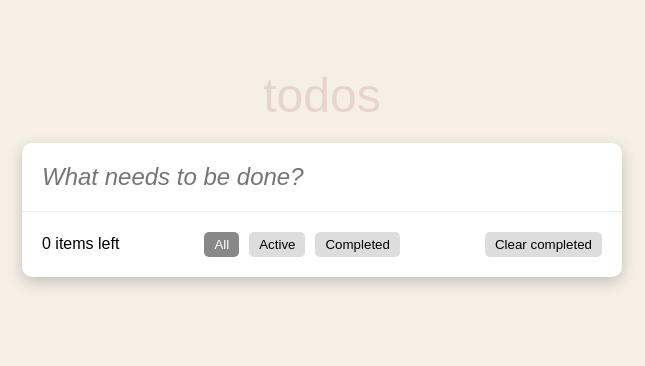
Todo App › clears completed todos
Type "Active Task" into the field with test id "todo-input" at {"x": 309, "y": 177}, box left=32, top=153, right=586, bottom=201
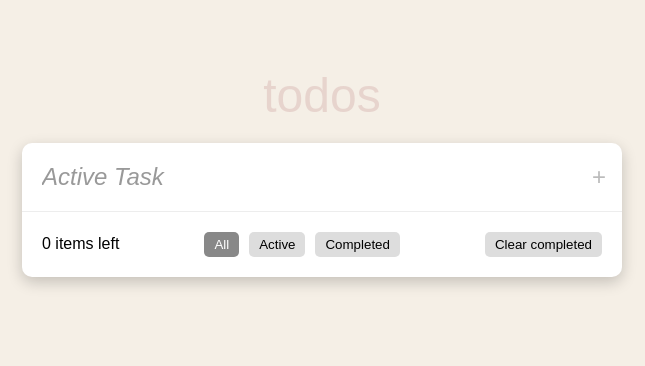
Click the button with test id "add-todo-button" at {"x": 599, "y": 177}, box left=586, top=162, right=612, bottom=192
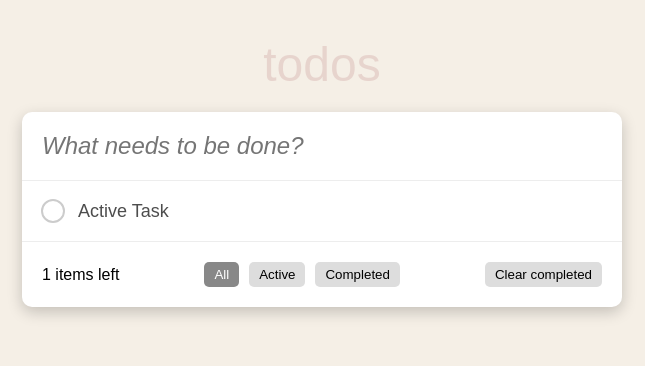
Type "Completed Task" into the field with test id "todo-input" at {"x": 309, "y": 146}, box left=32, top=122, right=586, bottom=170
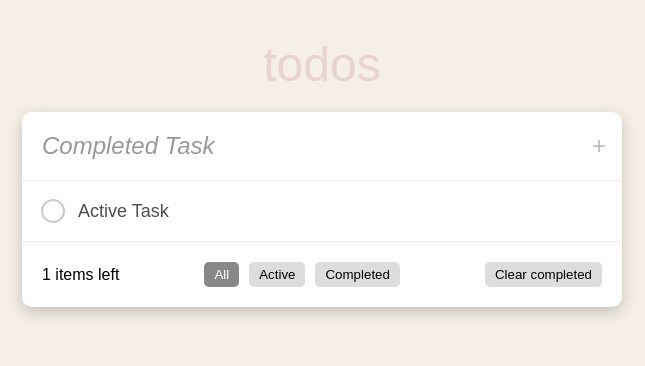
Click the button with test id "add-todo-button" at {"x": 599, "y": 146}, box left=586, top=131, right=612, bottom=161
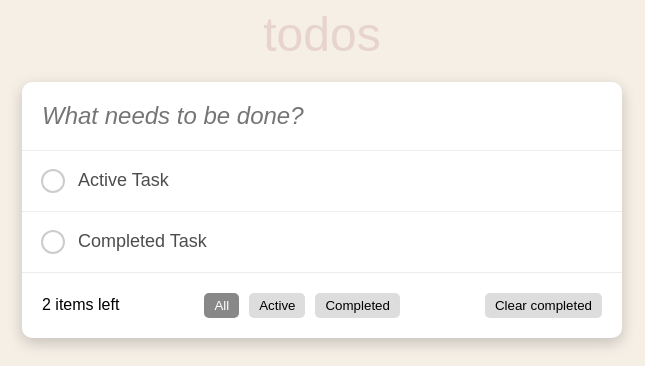
Click the checkbox next to "Completed Task" at {"x": 53, "y": 242}, box left=41, top=230, right=65, bottom=254
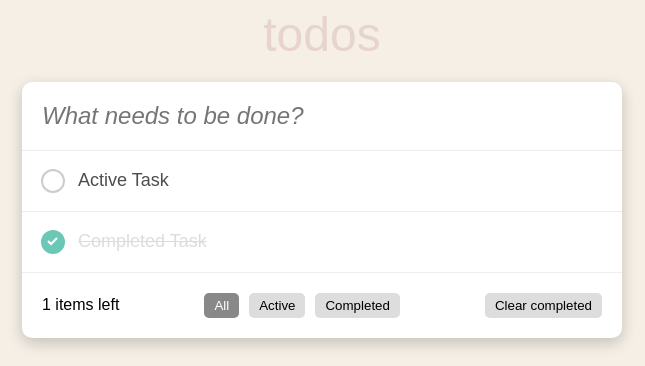
Click the button with test id "clear-completed" at {"x": 544, "y": 305}, box left=485, top=293, right=602, bottom=318
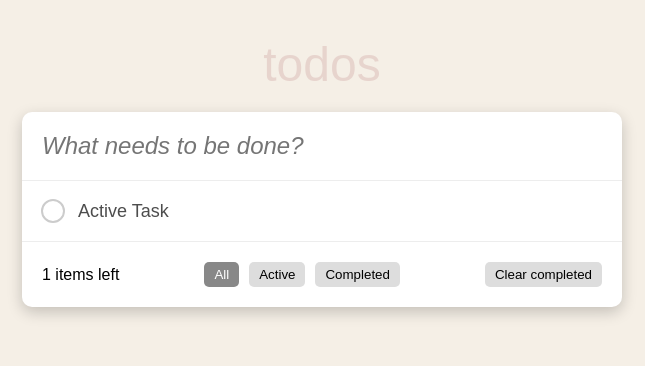
Now the list item "Completed Task" is gone
